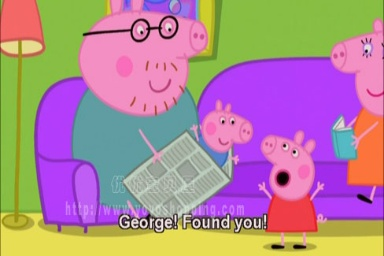Peppa: (254, 129, 328, 252)
